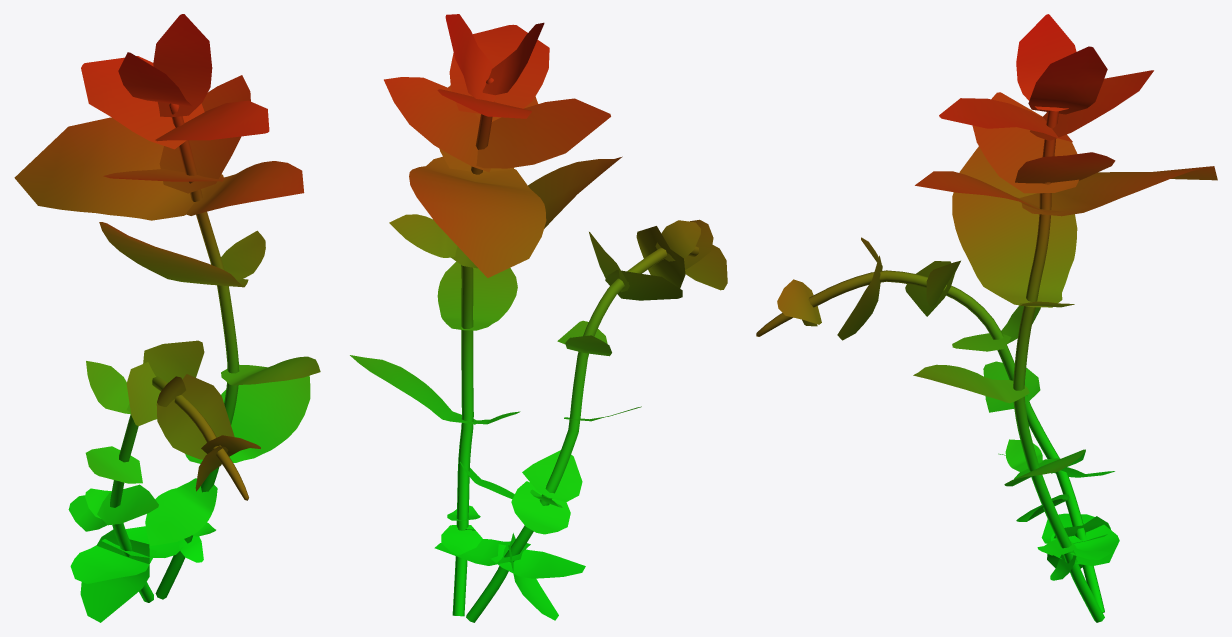
Rendered from Rubber Bush_LOD1_Var9_xffhfekia.fbx.
The picture shows the model from 3 angles, left to right: view 1: azimuth 30°, elevation 25°; view 2: azimuth 150°, elevation 25°; view 3: azimuth 270°, elevation 25°; orthographic projection.
Parts seen in each view (by area): view 1: _tli7_Var9_LOD1; view 2: _tli7_Var9_LOD1; view 3: _tli7_Var9_LOD1.
Part boxes in pixels (x1,y1,x2,y2): _tli7_Var9_LOD1: (14, 14, 320, 622); _tli7_Var9_LOD1: (350, 14, 727, 622); _tli7_Var9_LOD1: (756, 14, 1217, 622).
Size of the model in its own units: 19.9 by 43.96 by 31.5.
